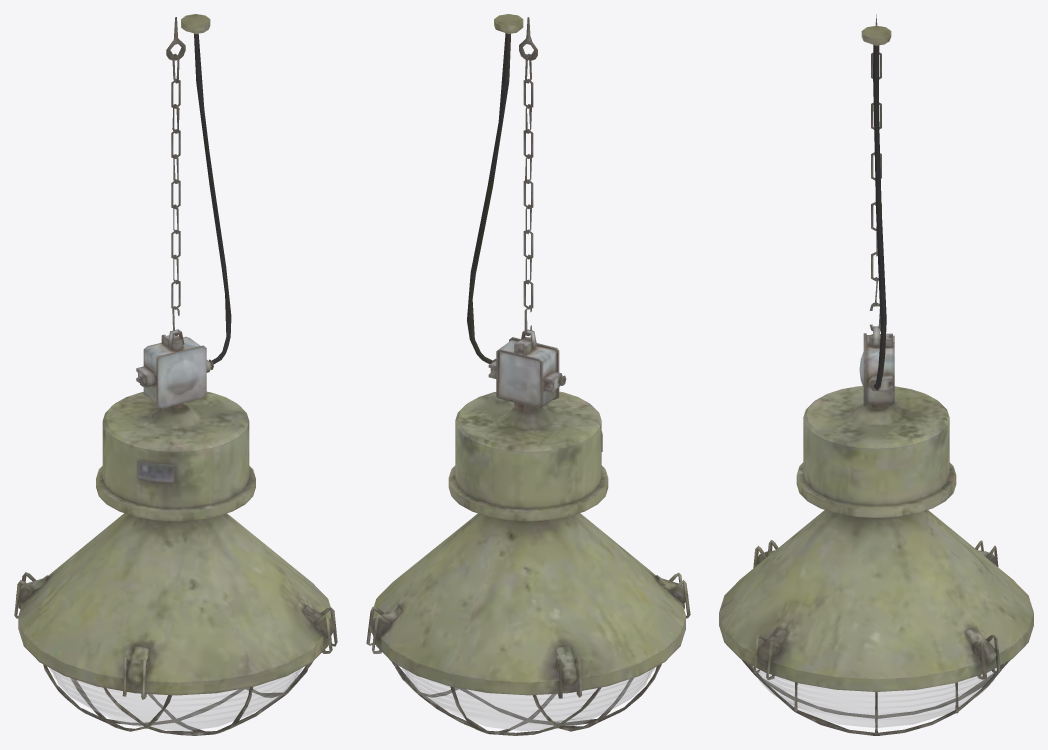
Rendered from hanging_industrial_lamp.glb.
3 renders of one model, left to right at view 1: azimuth 30°, elevation 25°; view 2: azimuth 150°, elevation 25°; view 3: azimuth 270°, elevation 25°, orthographic.
Parts seen in each view (by area): view 1: hanging_industrial_lamp; view 2: hanging_industrial_lamp; view 3: hanging_industrial_lamp.
Boxes of the visible parts, <box> form: hanging_industrial_lamp: <box>14,14,337,735</box>; hanging_industrial_lamp: <box>366,14,690,735</box>; hanging_industrial_lamp: <box>719,14,1033,735</box>.
Bounding box in the file's own units: 0.5497 × 1.36 × 0.5497.
Materials: 2 (1 with a texture image).
